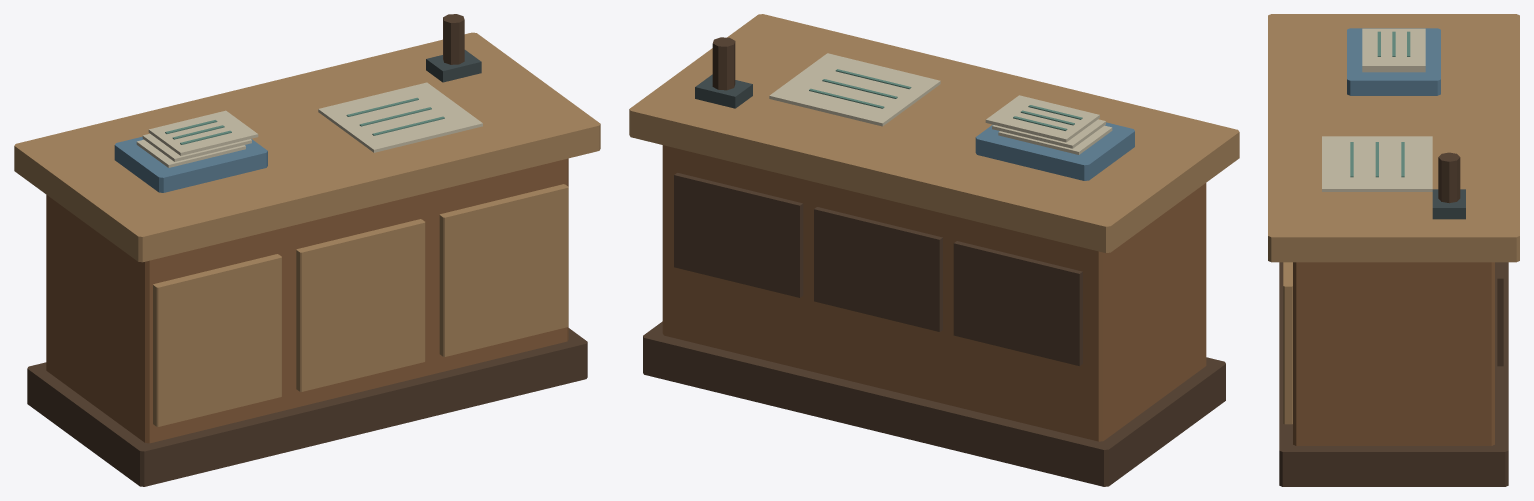
The model's file is counter_station.glb.
3 views of the same model, side by side, from view 1: azimuth 30°, elevation 25°; view 2: azimuth 150°, elevation 25°; view 3: azimuth 270°, elevation 25° (orthographic). The views are drawn at different scales.
Visible parts, largest first — view 1: geometry; view 2: geometry; view 3: geometry.
Boxes of the visible parts, box(x1,y1,x2,y2) form: geometry: box(14, 14, 600, 486); geometry: box(629, 14, 1239, 486); geometry: box(1268, 14, 1519, 486).
Bounding box in the file's own units: 1.91 × 1.22 × 0.91.
